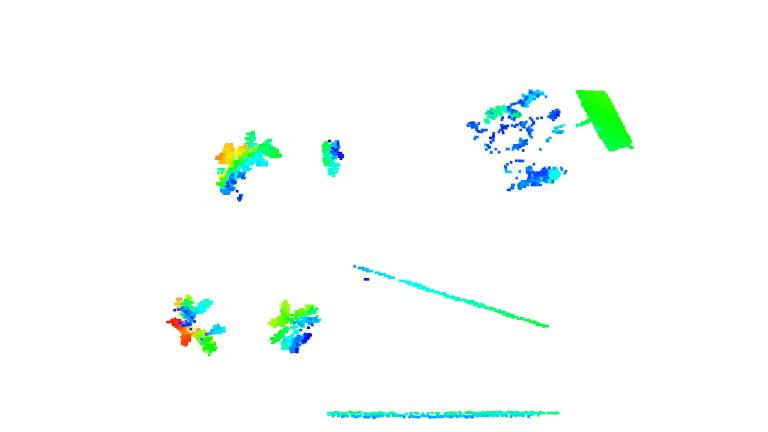chickpea: (214, 128, 285, 200), (165, 295, 229, 357), (265, 299, 321, 355), (318, 137, 346, 177)
